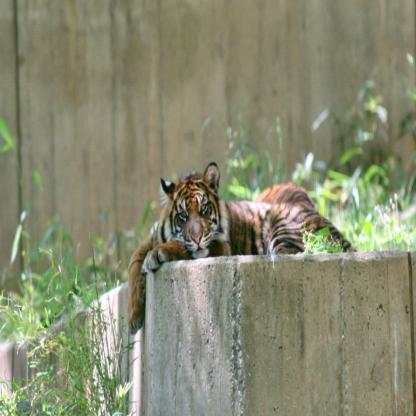tiger: (156, 162, 222, 264)
